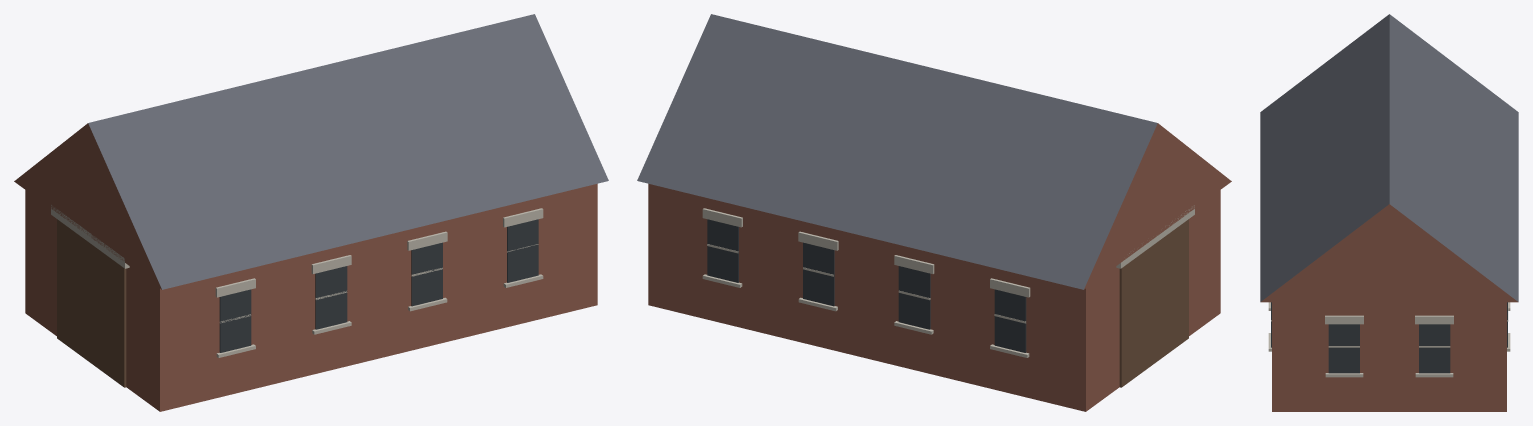
Rendered from house_2013_indiana_coach_house__draft_1904.glb.
The picture shows the model from 3 angles, left to right: view 1: azimuth 30°, elevation 25°; view 2: azimuth 150°, elevation 25°; view 3: azimuth 270°, elevation 25°; orthographic projection. The views are drawn at different scales.
Parts seen in each view (by area): view 1: house_2013_indiana_coach_house__draft_1904; view 2: house_2013_indiana_coach_house__draft_1904; view 3: house_2013_indiana_coach_house__draft_1904.
Part boxes in pixels (bbox=[...]): house_2013_indiana_coach_house__draft_1904: bbox=[14, 14, 608, 411]; house_2013_indiana_coach_house__draft_1904: bbox=[637, 14, 1231, 411]; house_2013_indiana_coach_house__draft_1904: bbox=[1260, 14, 1518, 411].
Bounding box in the file's own units: 11.49 × 5.92 × 6.6.
